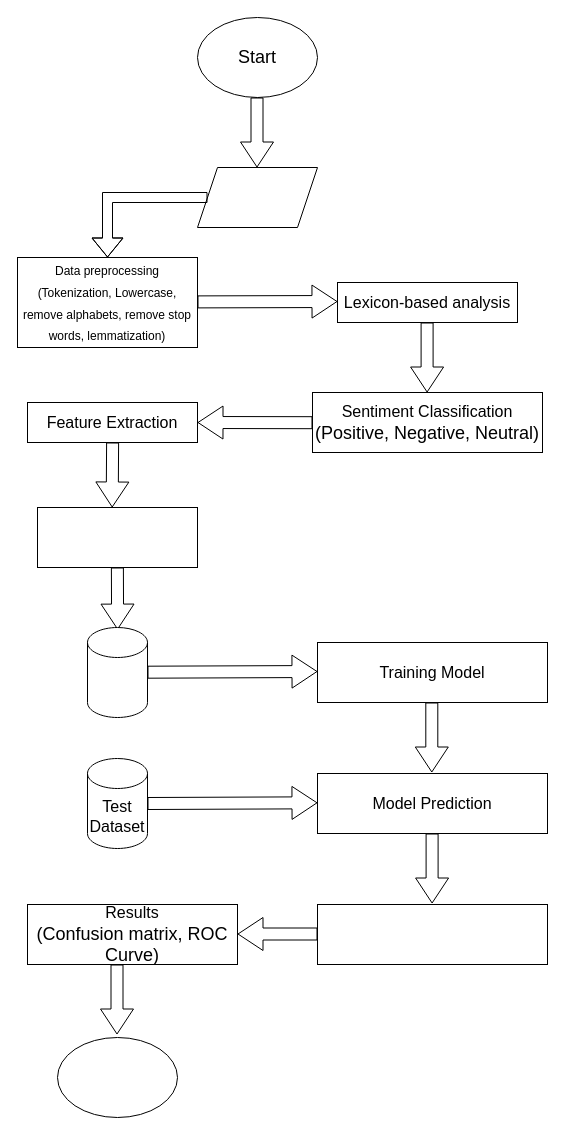
The diagram is 565 pixels wide and 1135 high, and some of its shapes have lost their labels. Here are the shapes that lost their labels. From the top down, the centre of each, then its label:
At (257,197): "Dataset".
At (117,537): "Train-Test Split".
At (117,672): "Train Dataset".
At (432,934): "Model Performance Evaluation".
At (117,1077): "End".
